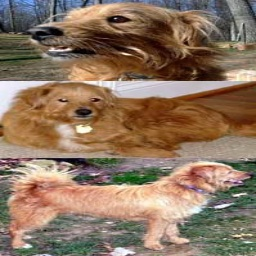dog: (2, 2, 256, 247)
